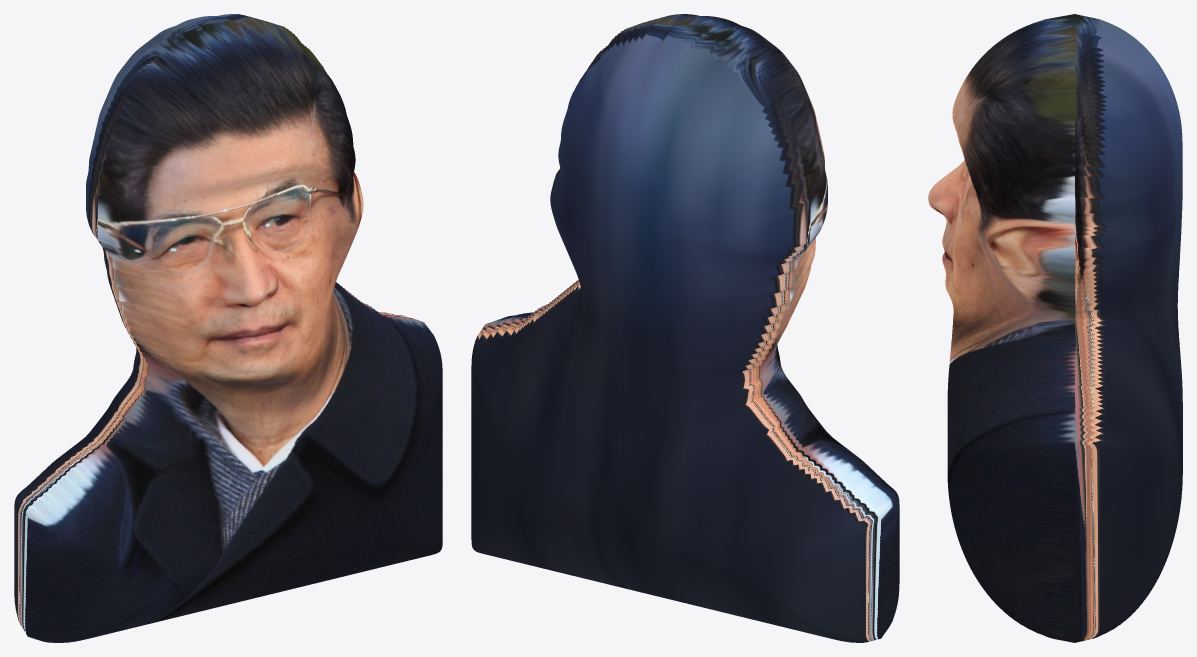
3 renders of one model, left to right at view 1: azimuth 30°, elevation 25°; view 2: azimuth 150°, elevation 25°; view 3: azimuth 270°, elevation 25°, orthographic. The views are drawn at different scales.
Bounding box in the file's own units: 1 × 1.37 × 0.6007.
Materials: 1 (1 with a texture image).
